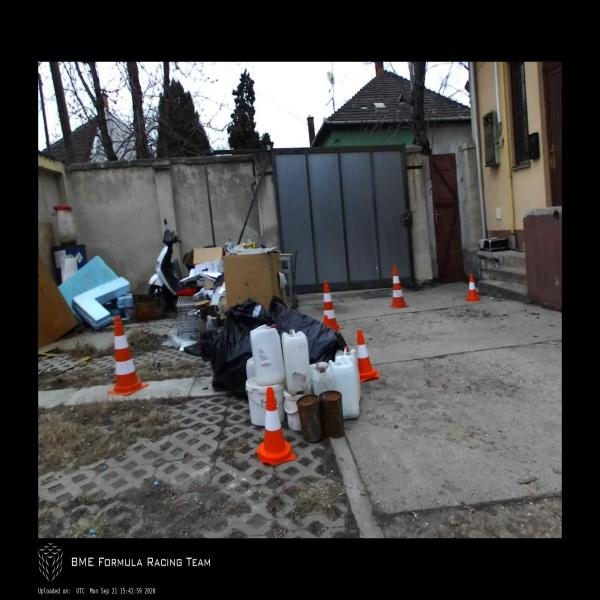large_orange_cone: (108, 317, 148, 395), (323, 281, 344, 330), (390, 266, 409, 308)
orange_cone: (257, 387, 295, 465), (357, 331, 380, 382), (467, 275, 480, 300)
